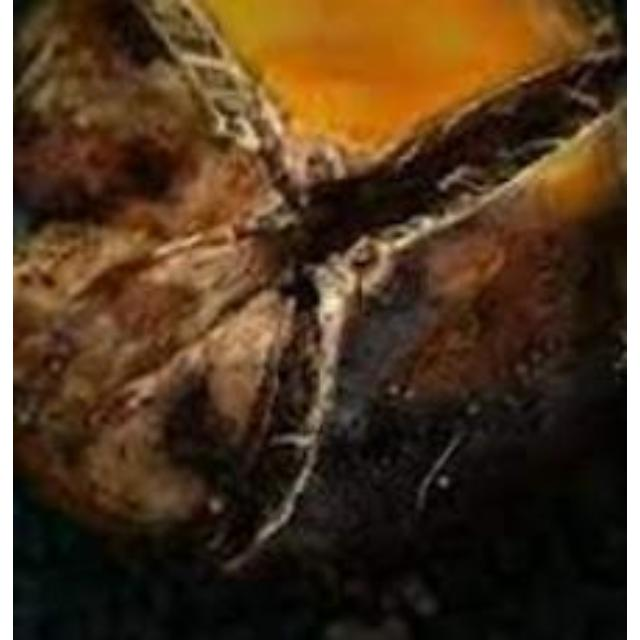damaged: (13, 0, 625, 581)
